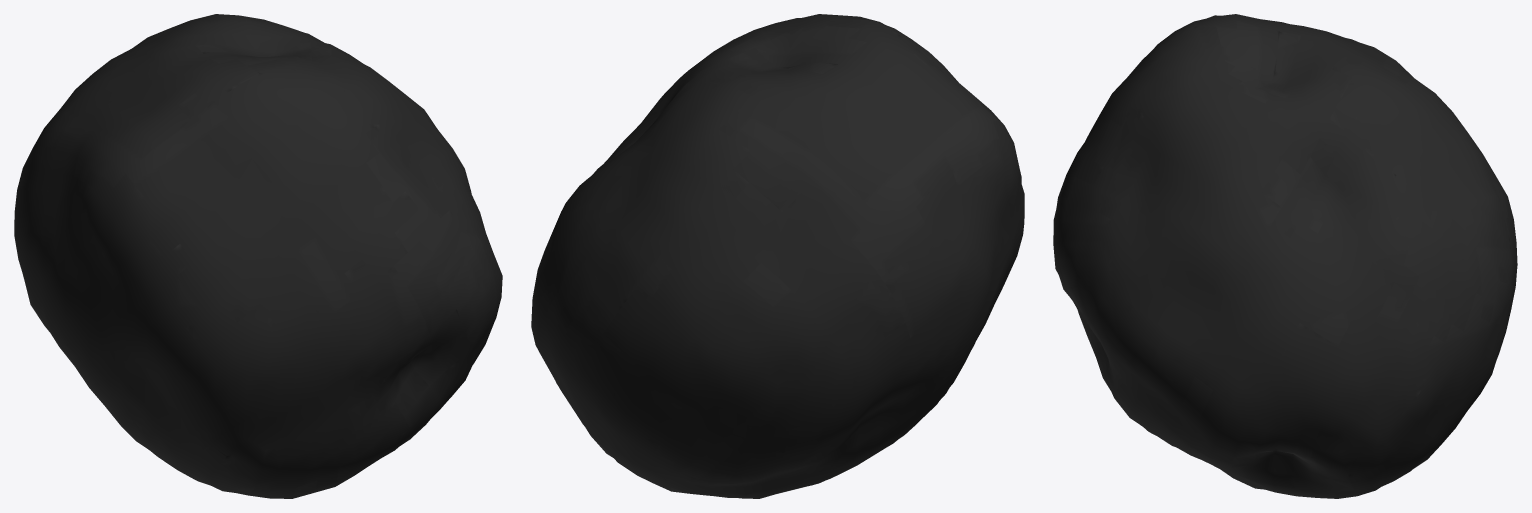
Rendered from asteroid-1.glb.
The picture shows the model from 3 angles, left to right: view 1: azimuth 30°, elevation 25°; view 2: azimuth 150°, elevation 25°; view 3: azimuth 270°, elevation 25°; orthographic projection. The views are drawn at different scales.
Visible parts, largest first — view 1: asteroid; view 2: asteroid; view 3: asteroid.
Part boxes in pixels (<box>): asteroid: <box>14,14,502,498</box>; asteroid: <box>531,14,1024,498</box>; asteroid: <box>1053,14,1517,498</box>.
Size of the model in its own units: 0.1044 by 0.1077 by 0.1084.
1 material, 1 textured.
